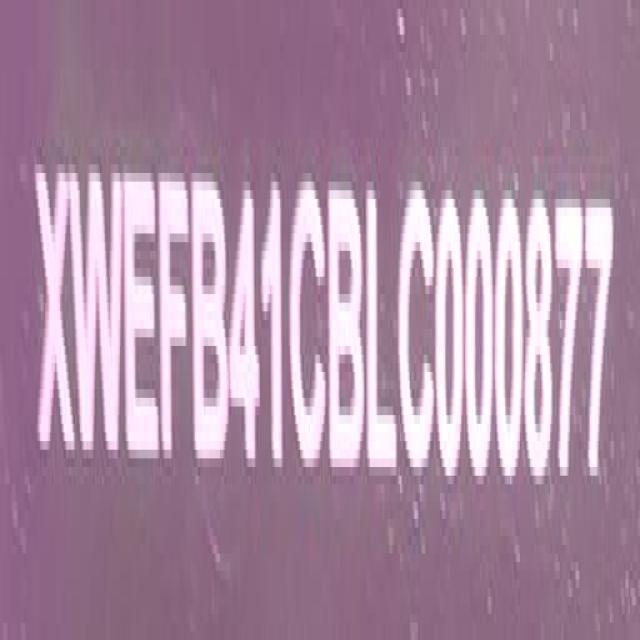0: (436, 185, 466, 484), (464, 188, 492, 487), (496, 188, 524, 484)
1: (260, 169, 286, 482)
4: (229, 177, 260, 483)
7: (584, 197, 614, 490), (554, 191, 582, 489)
8: (524, 191, 554, 487)
B: (193, 170, 230, 478), (330, 176, 365, 481)
C: (290, 175, 330, 484), (399, 182, 437, 484)
E: (125, 169, 161, 475)
F: (160, 169, 193, 478)
L: (368, 179, 398, 483)
W: (72, 160, 125, 470)
X: (36, 157, 74, 467)
